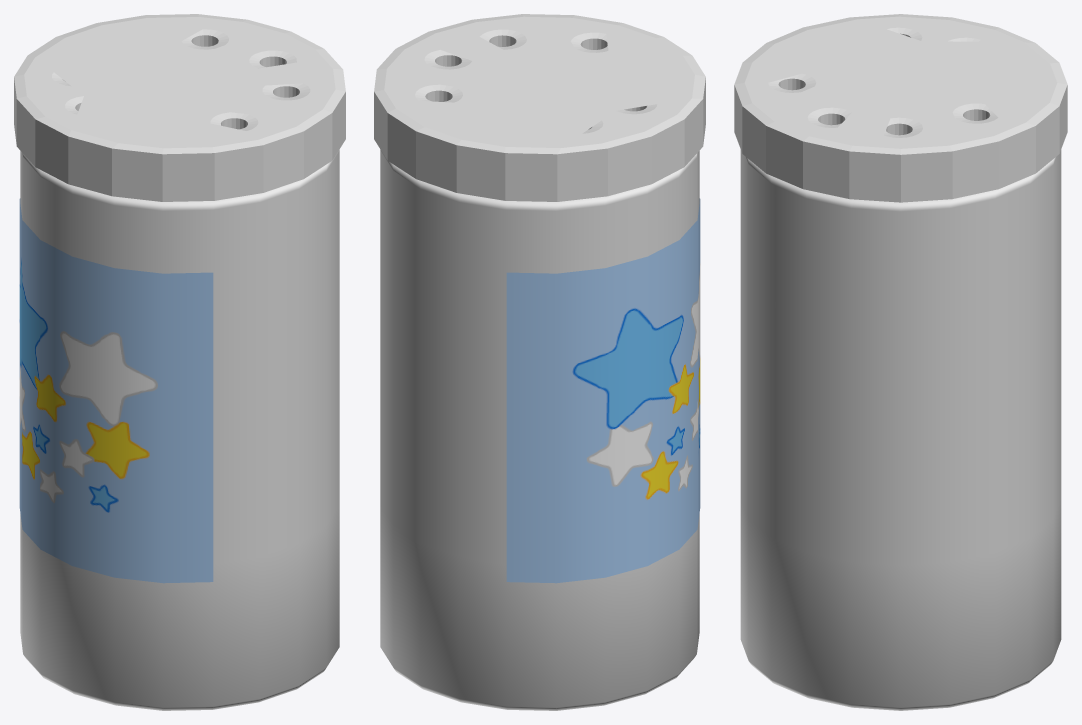
Rendered from sprinkles02.fbx.
3 views of the same model, side by side, from view 1: azimuth 30°, elevation 25°; view 2: azimuth 150°, elevation 25°; view 3: azimuth 270°, elevation 25° (orthographic).
Visible parts, largest first — view 1: sprinkles02; view 2: sprinkles02; view 3: sprinkles02.
Boxes of the visible parts, x1,y1,x2,y2 form: sprinkles02: [14, 14, 345, 710]; sprinkles02: [374, 14, 705, 710]; sprinkles02: [734, 14, 1067, 710].
Bounding box in the file's own units: 55.64 × 104 × 55.64.
